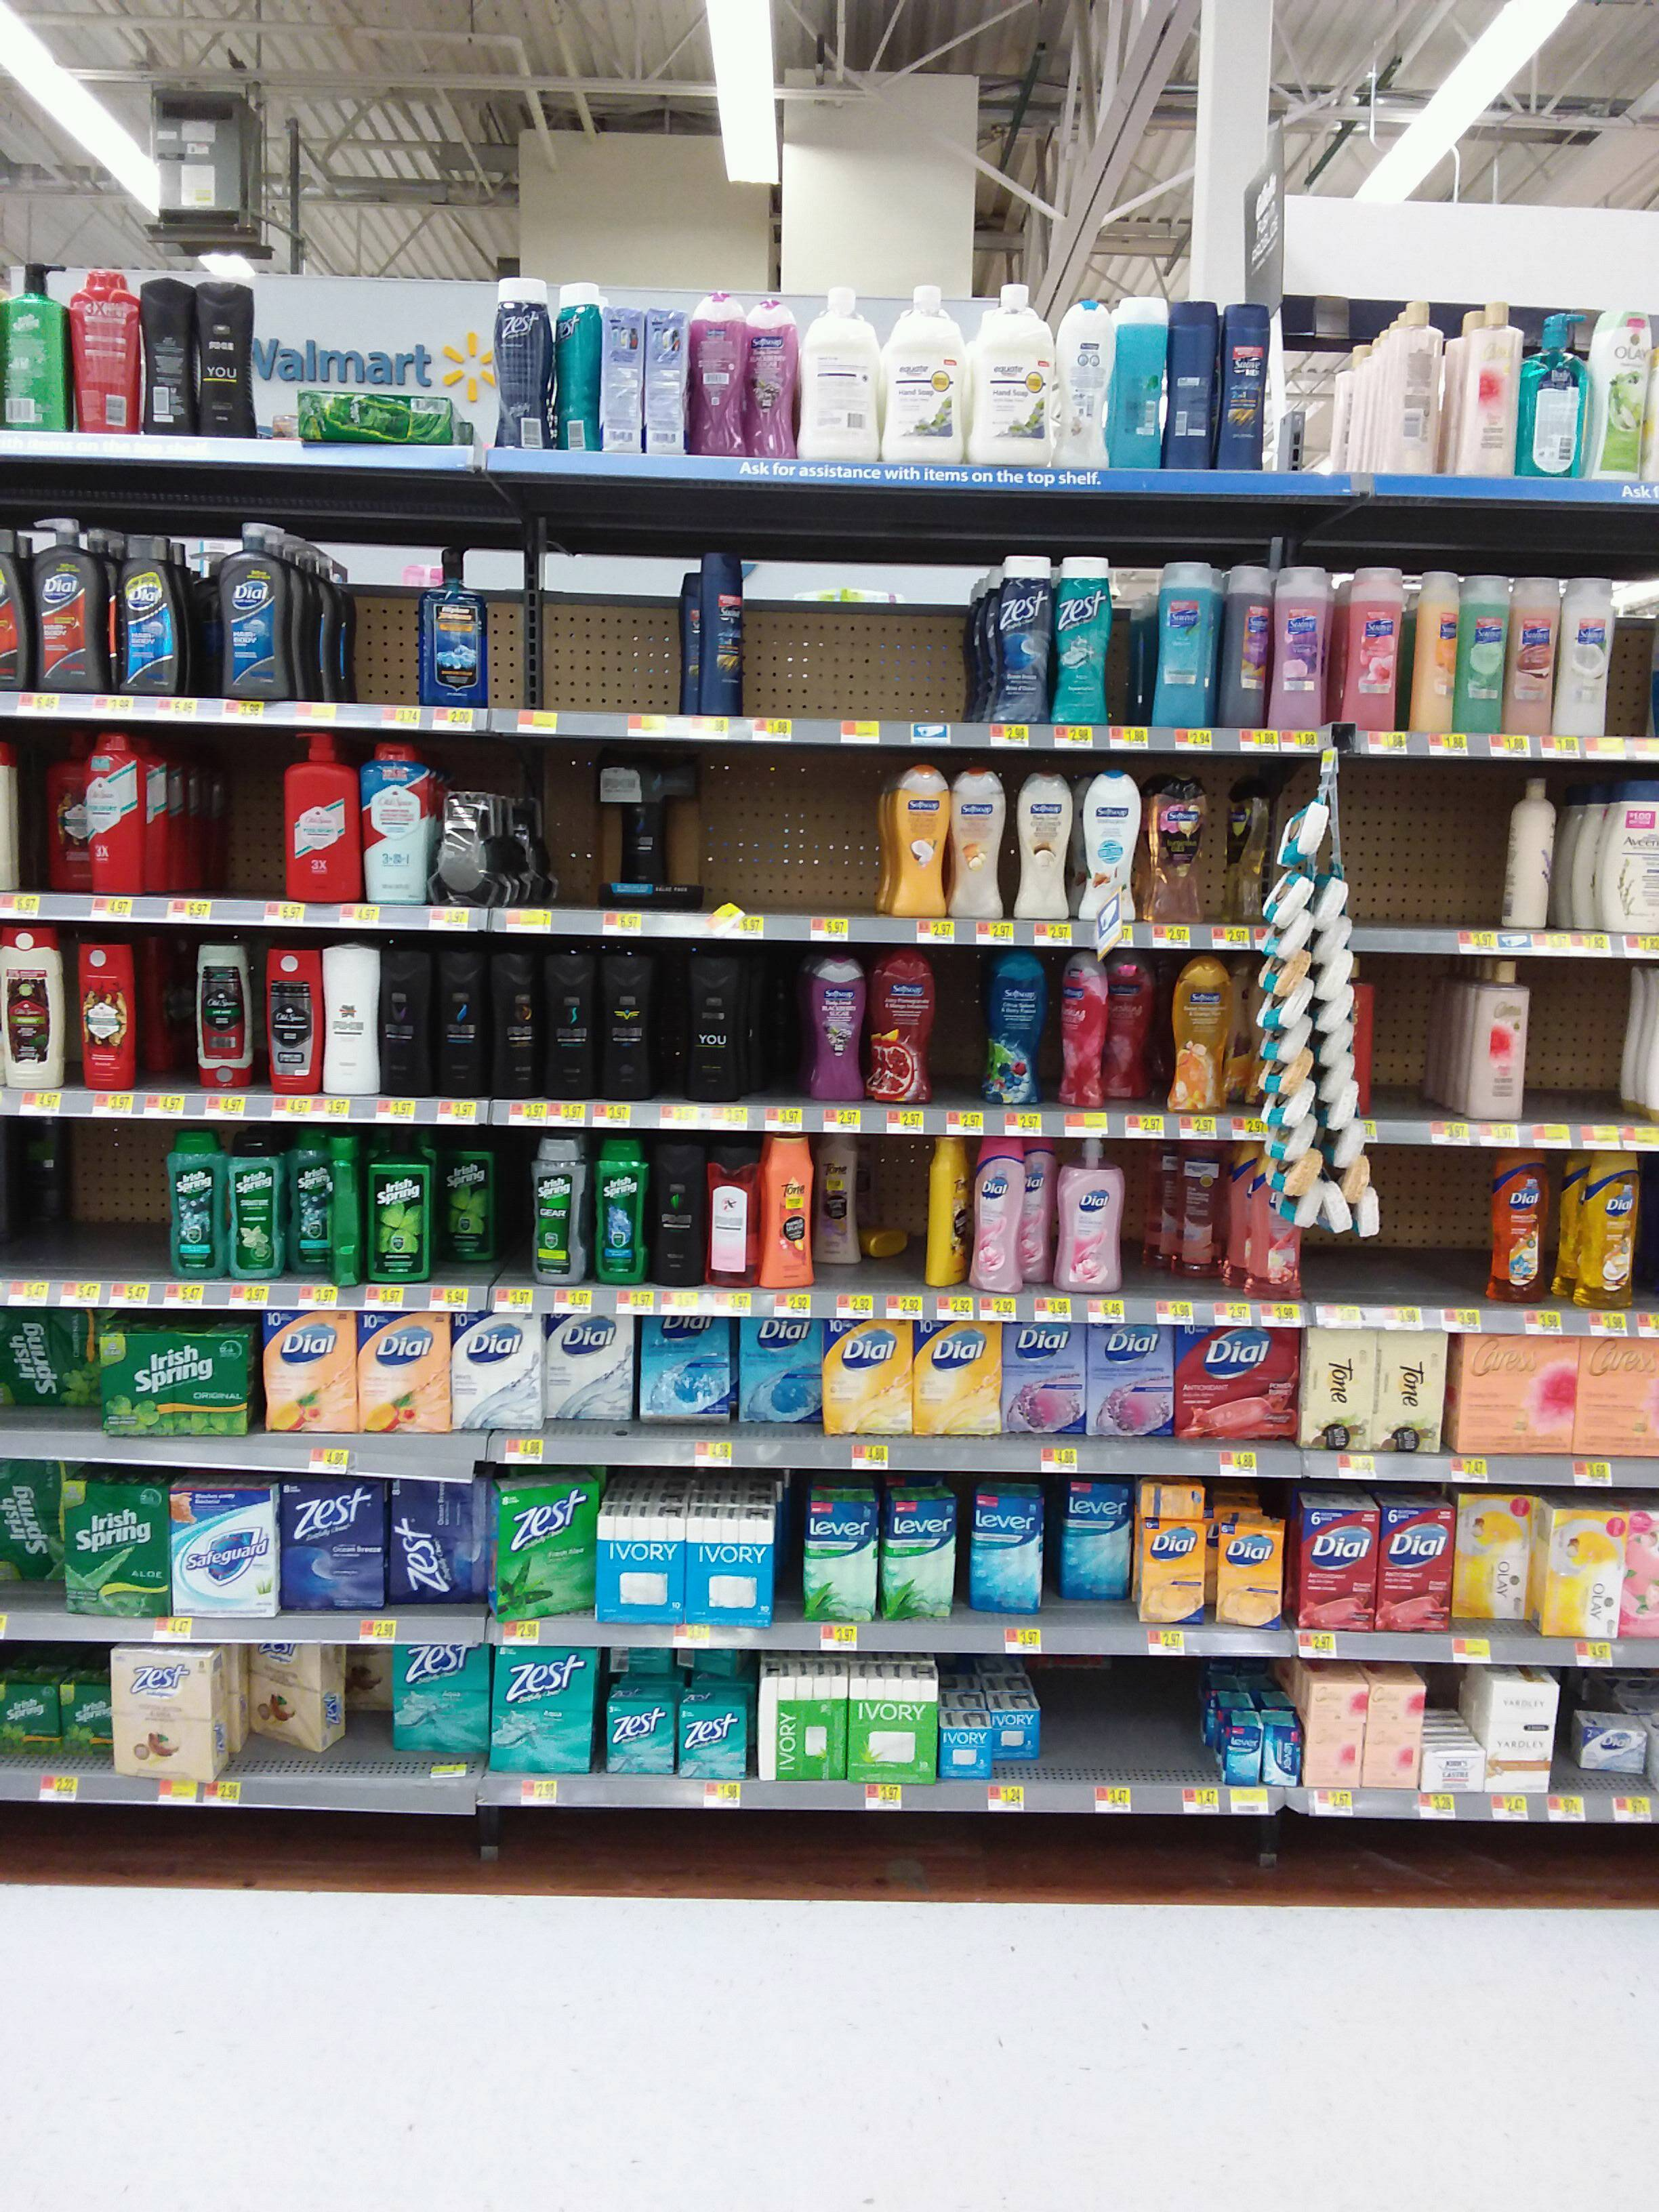Misplacement: (432, 1129, 498, 1287)
Out-of-stock: (789, 759, 877, 944)
